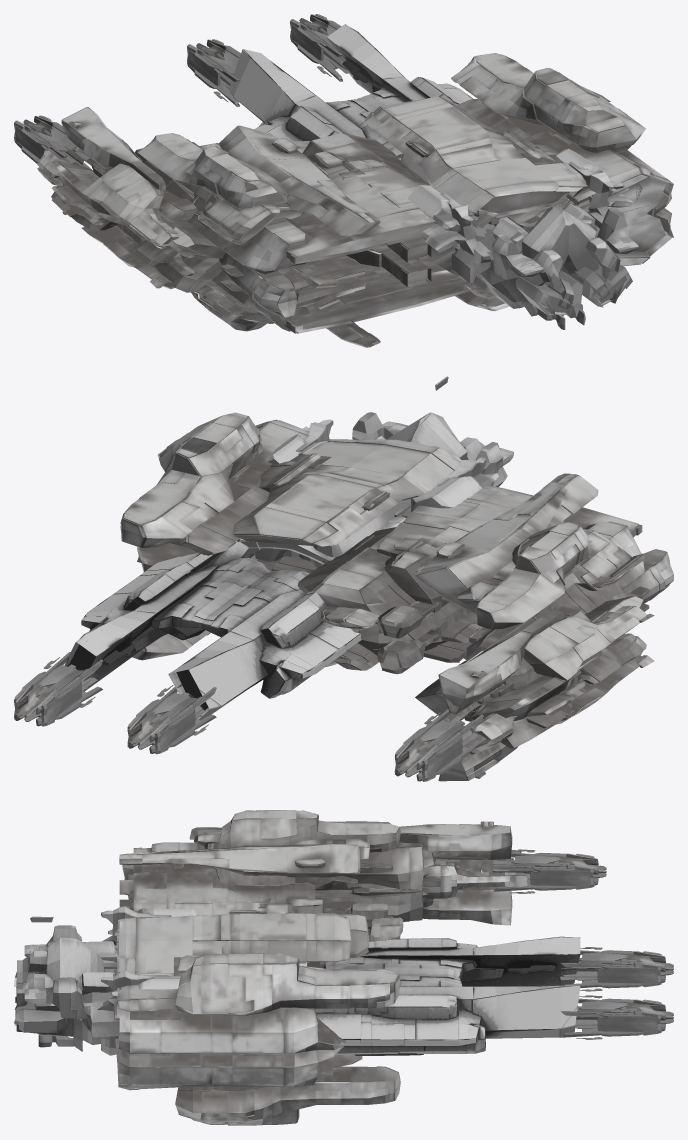
Rendered from DREADNOUGHT_001.fbx.
The picture shows the model from 3 angles, top to bottom: view 1: azimuth 30°, elevation 25°; view 2: azimuth 150°, elevation 25°; view 3: azimuth 270°, elevation 25°; orthographic projection. The views are drawn at different scales.
Visible parts, largest first — view 1: DREADNOUGHT_001; view 2: DREADNOUGHT_001; view 3: DREADNOUGHT_001.
Boxes of the visible parts, bbox=[...] form: DREADNOUGHT_001: bbox=[14, 14, 673, 347]; DREADNOUGHT_001: bbox=[14, 376, 673, 781]; DREADNOUGHT_001: bbox=[14, 810, 673, 1125].
Bounding box in the file's own units: 98.45 × 33.95 × 126.
